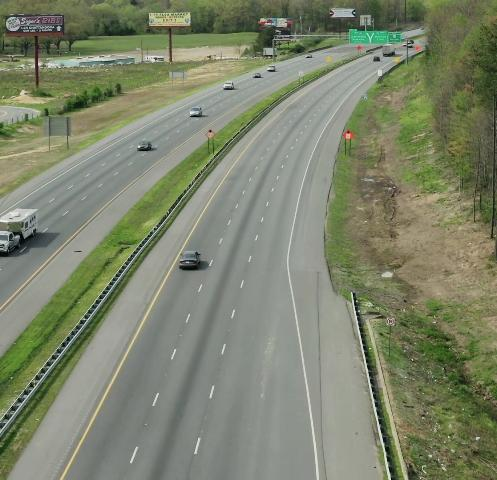car: (178, 248, 204, 271), (135, 139, 155, 153), (189, 106, 202, 117), (223, 81, 234, 89), (267, 66, 276, 72), (373, 56, 381, 61), (254, 73, 261, 78), (306, 55, 313, 58)
pickup-truck: (0, 206, 40, 255)
truck: (382, 44, 395, 57)
